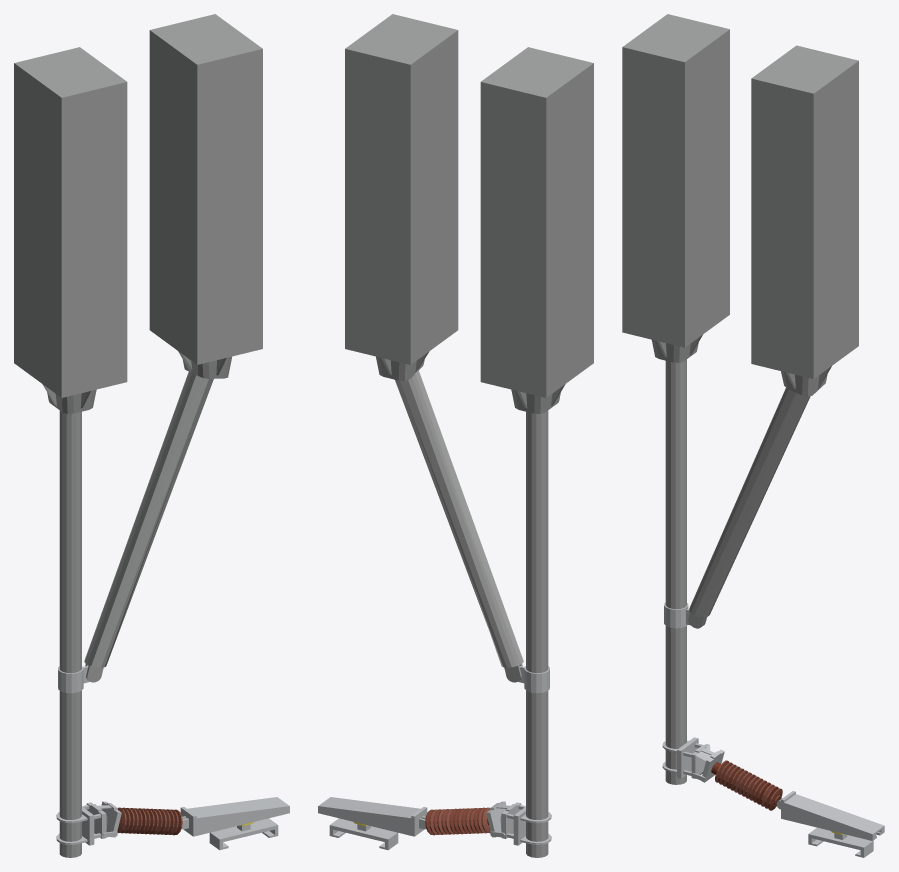
The model's file is rcl.obj.
3 views of the same model, side by side, from view 1: azimuth 30°, elevation 25°; view 2: azimuth 150°, elevation 25°; view 3: azimuth 330°, elevation 25° (orthographic). The views are drawn at different scales.
Parts seen in each view (by area): view 1: 1.001; view 2: 1.001; view 3: 1.001.
Boxes of the visible parts, <box> form: 1.001: <box>14,14,289,857</box>; 1.001: <box>318,14,593,857</box>; 1.001: <box>622,14,884,857</box>.
Size of the model in its own units: 0.8884 by 2.8 by 0.2979.
Materials: 1 (1 with a texture image).
